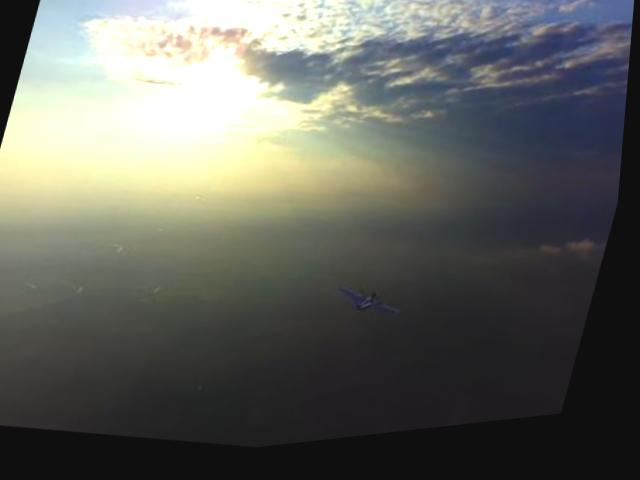uav: (334, 285, 412, 334)
